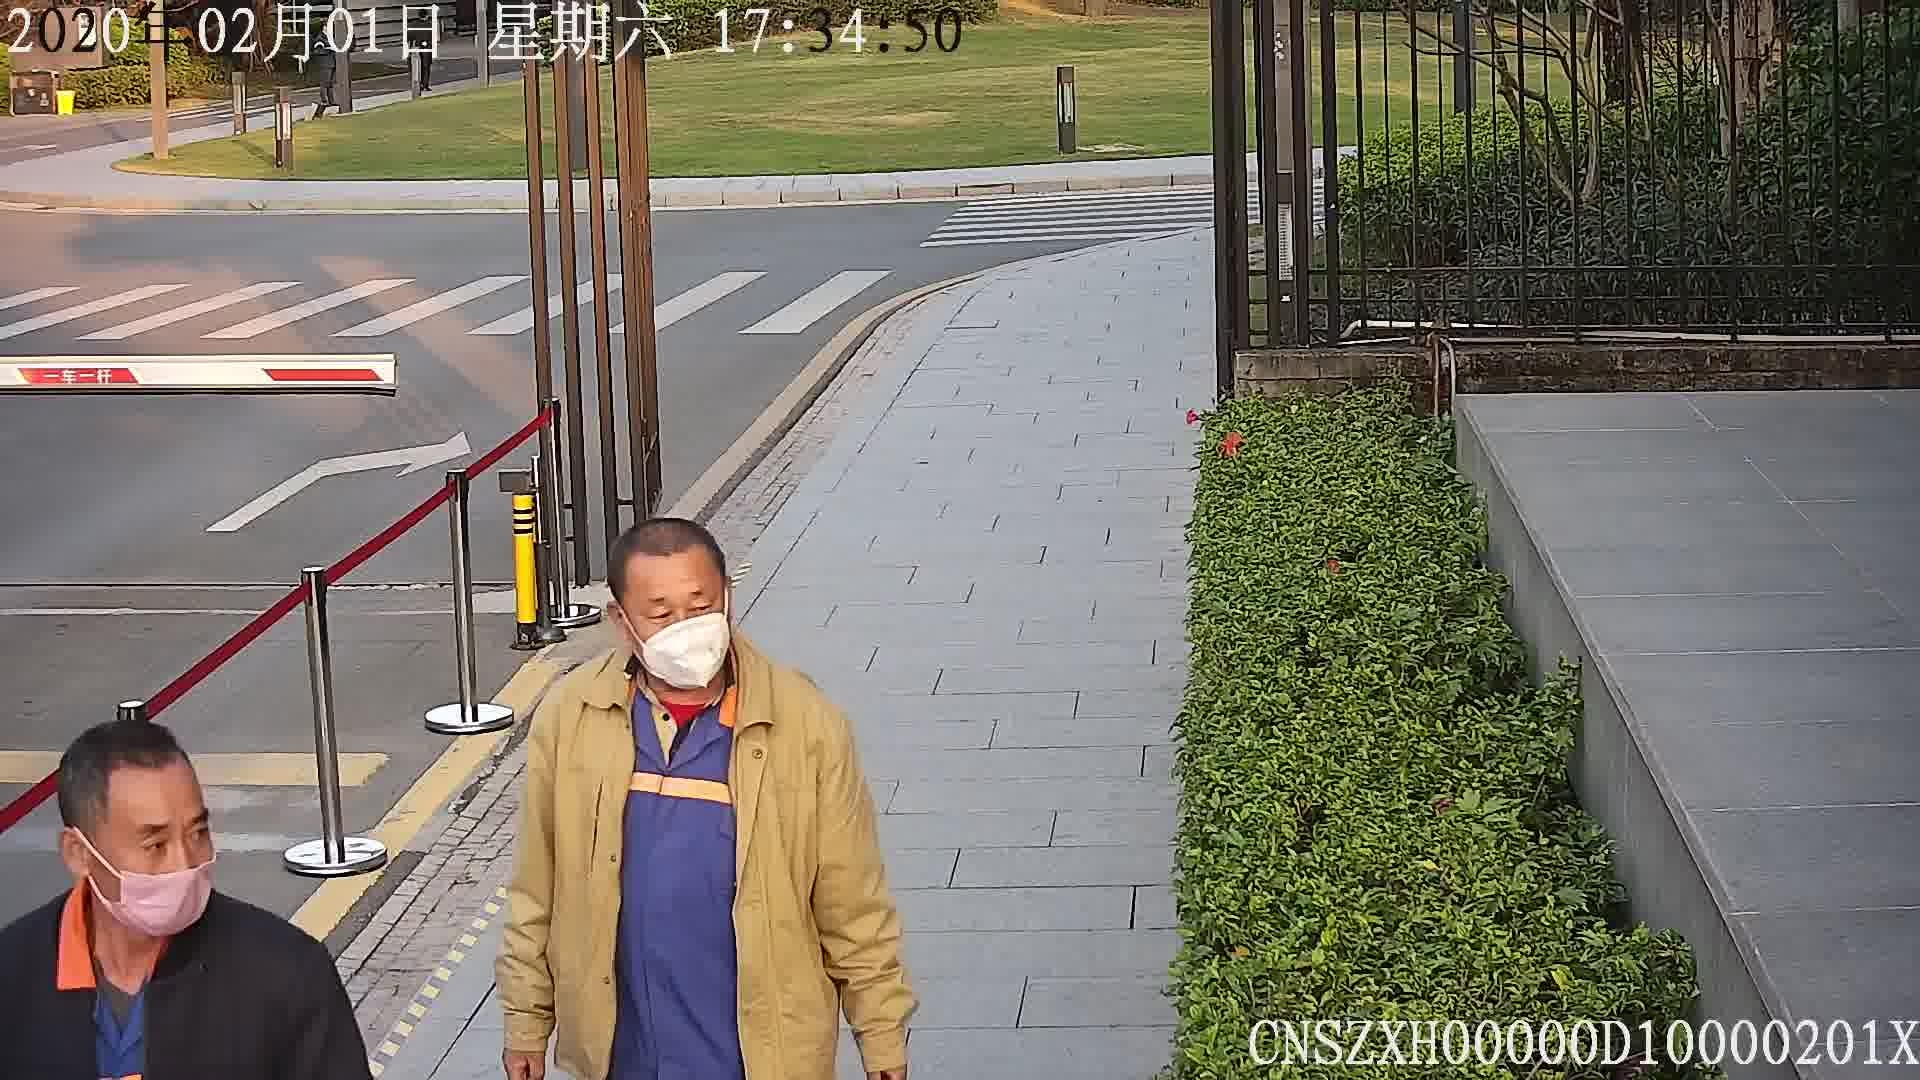face: (88, 759, 216, 938), (623, 545, 730, 688)
mask: (110, 864, 217, 933), (642, 610, 730, 685)
person: (11, 722, 349, 1045), (523, 515, 862, 766)
